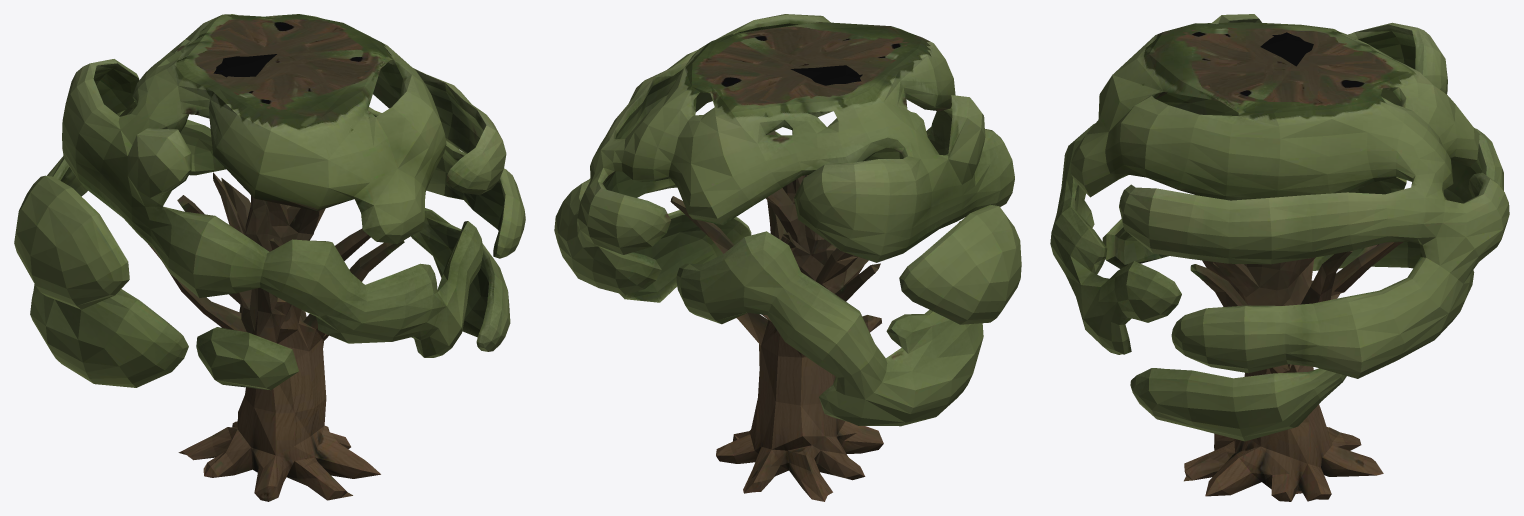
Rendered from tree3.obj.
3 views of the same model, side by side, from view 1: azimuth 30°, elevation 25°; view 2: azimuth 150°, elevation 25°; view 3: azimuth 270°, elevation 25° (orthographic). The views are drawn at different scales.
Parts seen in each view (by area): view 1: tripo_node_e6b379da-80b9-4f73-9ae9-25a13371a462; view 2: tripo_node_e6b379da-80b9-4f73-9ae9-25a13371a462; view 3: tripo_node_e6b379da-80b9-4f73-9ae9-25a13371a462.
Boxes of the visible parts, bbox=[...] form: tripo_node_e6b379da-80b9-4f73-9ae9-25a13371a462: bbox=[14, 14, 525, 501]; tripo_node_e6b379da-80b9-4f73-9ae9-25a13371a462: bbox=[554, 14, 1021, 501]; tripo_node_e6b379da-80b9-4f73-9ae9-25a13371a462: bbox=[1050, 14, 1509, 501].
Bounding box in the file's own units: 0.9969 × 0.8642 × 0.8786.
